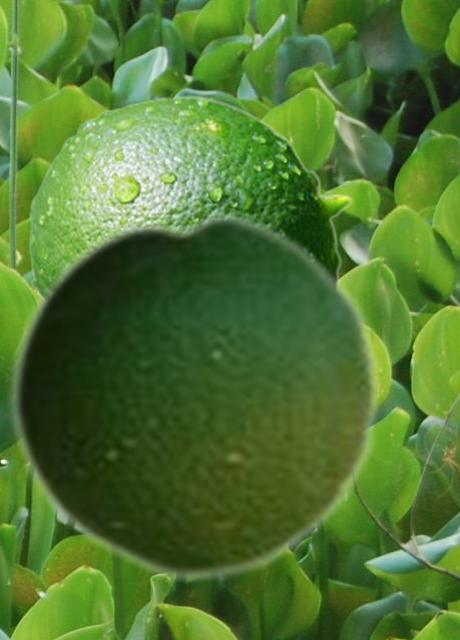dalandan: (7, 206, 382, 585), (28, 94, 352, 292)
